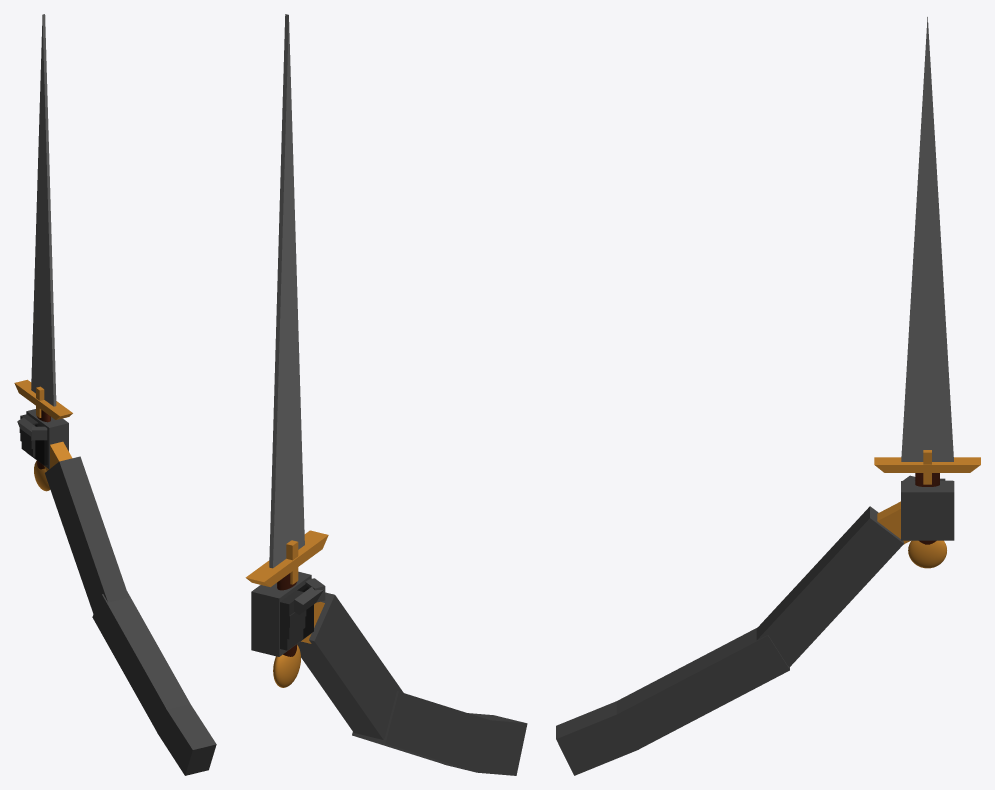
The model's file is templarArmWsword2.obj.
The picture shows the model from 3 angles, left to right: view 1: azimuth 30°, elevation 25°; view 2: azimuth 150°, elevation 25°; view 3: azimuth 270°, elevation 25°; orthographic projection. The views are drawn at different scales.
Visible parts, largest first — view 1: Cube.010; view 2: Cube.010; view 3: Cube.010.
Boxes of the visible parts, x1,y1,x2,y2 form: Cube.010: (14, 14, 216, 775); Cube.010: (245, 14, 527, 775); Cube.010: (556, 17, 980, 775).
Size of the model in its own units: 1.26 by 23.43 by 11.97.
